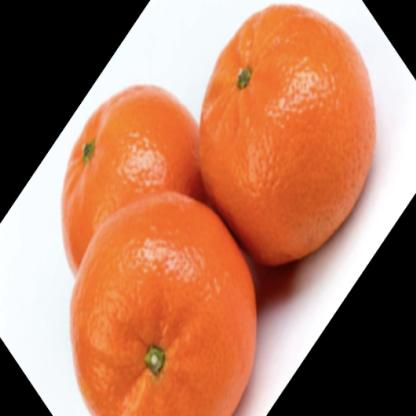fresh: (66, 5, 376, 416)
